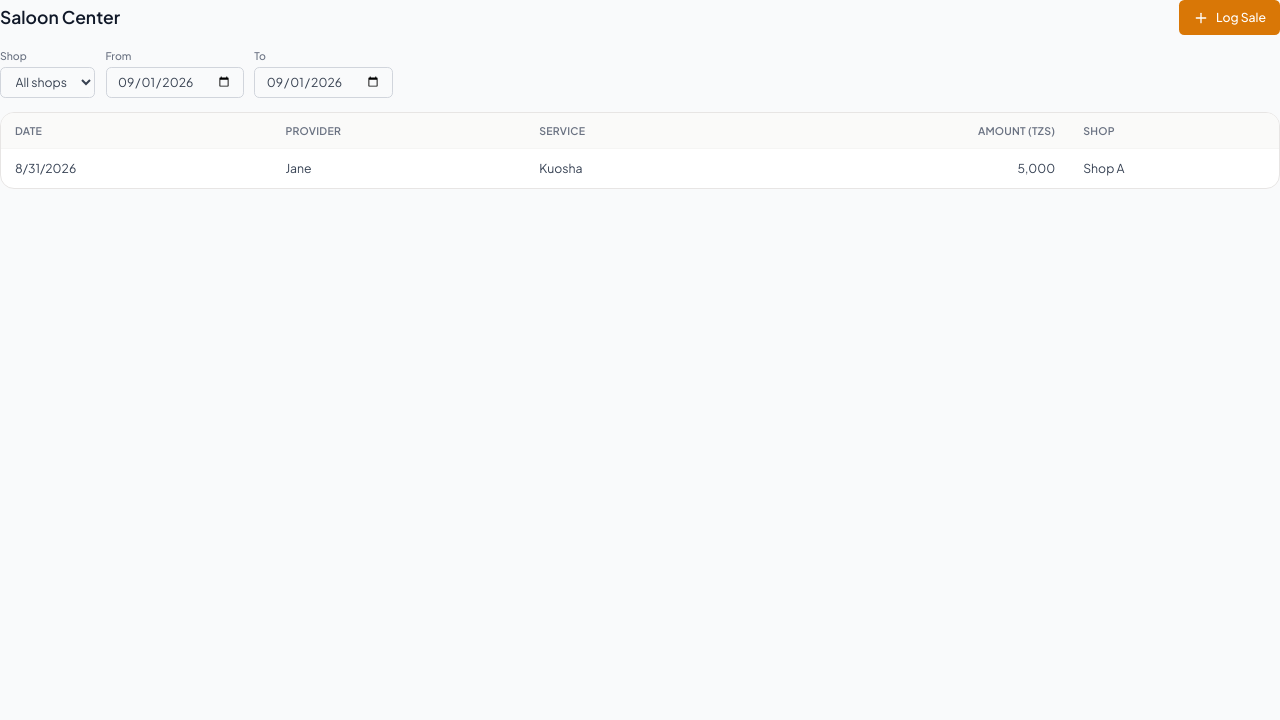
SaloonCenterPage › opens the Log Sale modal
Click the button "Log Sale". click: (1230, 18)
box: [1179,0,1279,35]
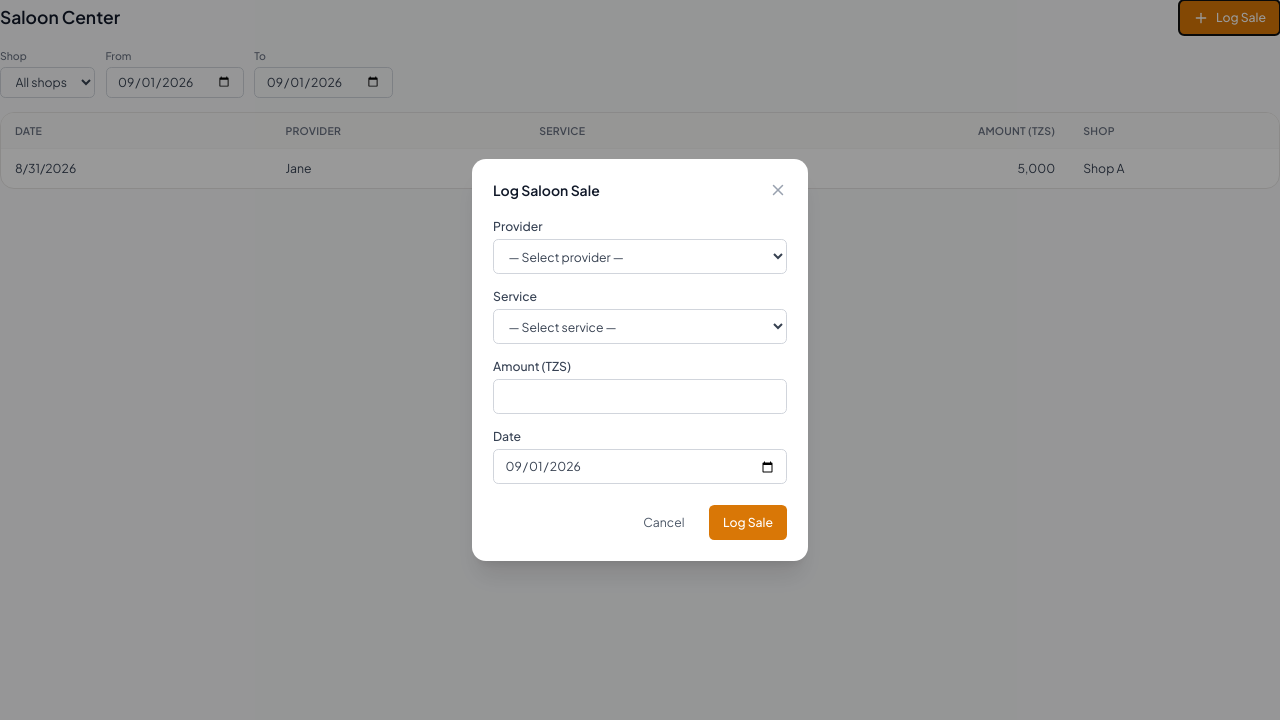
Check: the heading "Log Saloon Sale" is shown, box [493,180,600,201]
